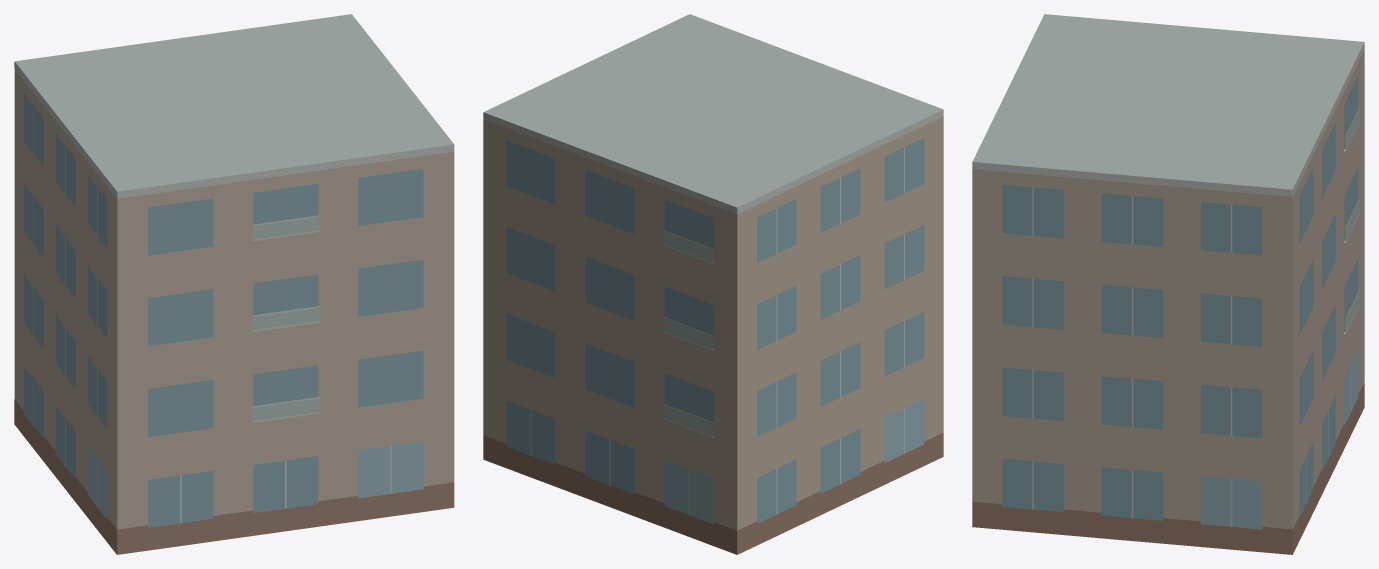
Rendered from residential-0fa99720-f82a-4750-95f1-426fb3c0a131.glb.
The picture shows the model from 3 angles, left to right: view 1: azimuth 30°, elevation 25°; view 2: azimuth 150°, elevation 25°; view 3: azimuth 270°, elevation 25°; orthographic projection. The views are drawn at different scales.
Parts seen in each view (by area): view 1: residential-0fa99720-f82a-4750-95f1-426fb3c0a131.tmp; view 2: residential-0fa99720-f82a-4750-95f1-426fb3c0a131.tmp; view 3: residential-0fa99720-f82a-4750-95f1-426fb3c0a131.tmp.
Part boxes in pixels (box(x1,y1,x2,y2)): residential-0fa99720-f82a-4750-95f1-426fb3c0a131.tmp: box(14, 14, 454, 554); residential-0fa99720-f82a-4750-95f1-426fb3c0a131.tmp: box(483, 14, 943, 554); residential-0fa99720-f82a-4750-95f1-426fb3c0a131.tmp: box(972, 14, 1364, 554).
Bounding box in the file's own units: 12.6 × 12.2 × 11.89.
